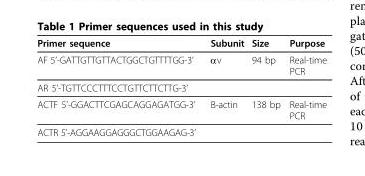table: (36, 36, 326, 137)
table column: (36, 36, 202, 137), (202, 36, 247, 137), (284, 36, 326, 137), (247, 36, 284, 137)
table column header: (36, 36, 326, 50)
table projected row header: (36, 79, 326, 95)
table row: (36, 50, 326, 79), (36, 95, 326, 123), (36, 79, 326, 95), (36, 36, 326, 50), (36, 123, 326, 137)
